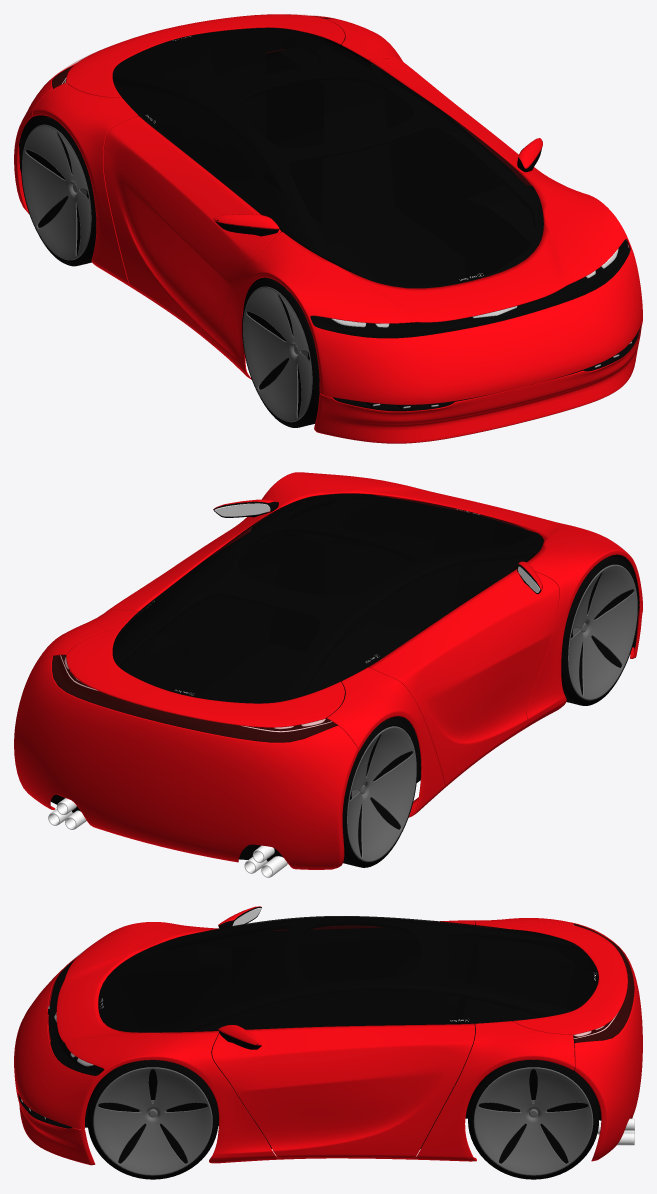
File: car2.fbx
3 renders of one model, top to bottom at view 1: azimuth 30°, elevation 25°; view 2: azimuth 150°, elevation 25°; view 3: azimuth 270°, elevation 25°, orthographic. The views are drawn at different scales.
Visible parts, largest first — view 1: future_car_002_by_unityfan; view 2: future_car_002_by_unityfan; view 3: future_car_002_by_unityfan.
Part boxes in pixels (left/top/right/bottom): future_car_002_by_unityfan: left=14, top=14, right=642, bottom=443; future_car_002_by_unityfan: left=14, top=472, right=642, bottom=877; future_car_002_by_unityfan: left=14, top=906, right=642, bottom=1179.
Bounding box in the file's own units: 219 × 121 × 422.
